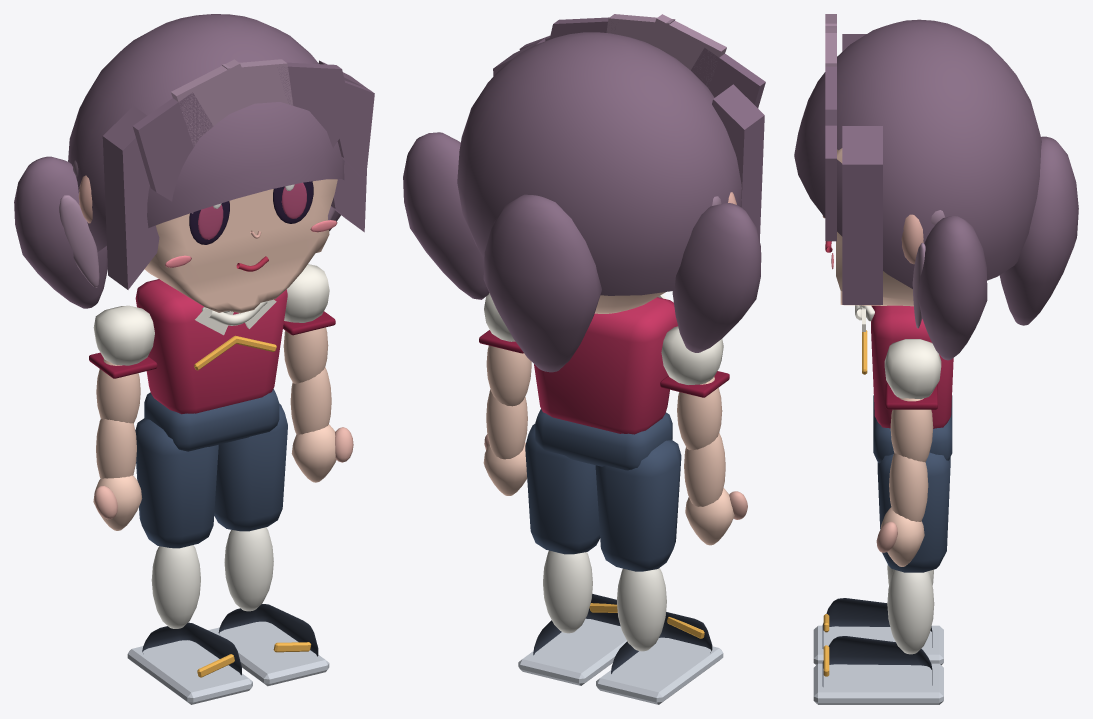
The model's file is chibi-stylized-v3.glb.
3 renders of one model, left to right at view 1: azimuth 30°, elevation 25°; view 2: azimuth 150°, elevation 25°; view 3: azimuth 270°, elevation 25°, orthographic.
Visible parts, largest first — view 1: hair_cap, head_mesh, torso_mesh, thigh_mesh_l, hair_style_twintail_tail_l, hair_style_bob_side_l, thigh_mesh_r, hair_bang_1, waist_mesh, foot_mesh_l_sole, foot_mesh_r_sole, hair_bang_2 (+25 smaller); view 2: hair_cap, hair_style_ponytail_tail, torso_mesh, hair_style_twintail_tail_l, thigh_mesh_l, hair_style_twintail_tail_r, thigh_mesh_r, foot_mesh_l_sole, waist_mesh, foot_mesh_r_sole, hair_style_bob_side_l, shin_mesh_l (+17 smaller); view 3: hair_cap, hair_style_ponytail_tail, hair_style_twintail_tail_r, hair_style_bob_side_r, foot_mesh_r_sole, torso_mesh, thigh_mesh_r, shin_mesh_r, jersey_sleeve_r, foot_mesh_r, forearm_mesh_r, upper_arm_mesh_r (+11 smaller).
Part boxes in pixels (bbox=[...]): hair_cap: bbox=[68, 14, 344, 251]; head_mesh: bbox=[144, 179, 337, 313]; torso_mesh: bbox=[135, 279, 287, 414]; thigh_mesh_l: bbox=[135, 418, 218, 548]; hair_style_twintail_tail_l: bbox=[14, 156, 107, 308]; hair_style_bob_side_l: bbox=[102, 105, 159, 289]; thigh_mesh_r: bbox=[214, 403, 287, 531]; hair_bang_1: bbox=[132, 92, 213, 213]; waist_mesh: bbox=[144, 389, 279, 451]; foot_mesh_l_sole: bbox=[127, 640, 252, 704]; foot_mesh_r_sole: bbox=[208, 621, 329, 686]; hair_bang_2: bbox=[171, 59, 255, 146]; hair_cap: bbox=[457, 32, 741, 295]; hair_style_ponytail_tail: bbox=[483, 194, 601, 372]; torso_mesh: bbox=[534, 297, 677, 434]; hair_style_twintail_tail_l: bbox=[672, 202, 761, 352]; thigh_mesh_l: bbox=[595, 439, 681, 571]; hair_style_twintail_tail_r: bbox=[403, 132, 489, 299]; thigh_mesh_r: bbox=[525, 424, 600, 554]; foot_mesh_l_sole: bbox=[596, 637, 723, 704]; waist_mesh: bbox=[535, 409, 672, 470]; foot_mesh_r_sole: bbox=[518, 618, 626, 685]; hair_style_bob_side_l: bbox=[712, 84, 764, 241]; shin_mesh_l: bbox=[617, 568, 666, 651]; hair_cap: bbox=[794, 19, 1041, 288]; hair_style_ponytail_tail: bbox=[999, 136, 1078, 325]; hair_style_twintail_tail_r: bbox=[917, 216, 987, 360]; hair_style_bob_side_r: bbox=[842, 126, 882, 304]; foot_mesh_r_sole: bbox=[813, 663, 943, 704]; torso_mesh: bbox=[871, 305, 953, 428]; thigh_mesh_r: bbox=[877, 452, 950, 572]; shin_mesh_r: bbox=[887, 569, 934, 654]; jersey_sleeve_r: bbox=[884, 339, 941, 399]; foot_mesh_r: bbox=[822, 636, 932, 686]; forearm_mesh_r: bbox=[889, 453, 928, 521]; upper_arm_mesh_r: bbox=[890, 397, 933, 462].
Bounding box in the file's own units: 1.9 × 3.3 × 1.33.
